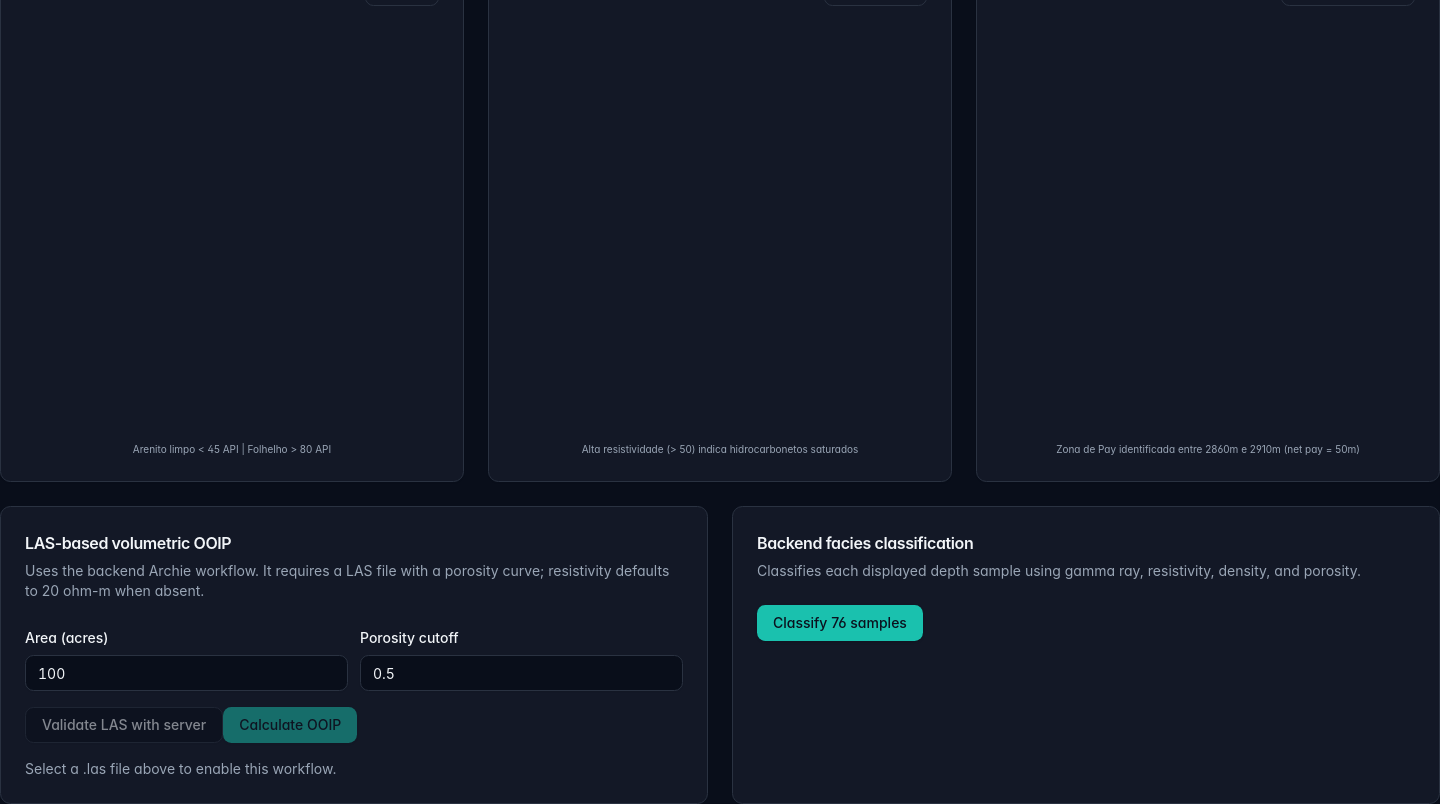
WellDataViewer backend workflows › sends displayed well-log samples to the backend facies classifier
The image size is (1440, 804).
(page scrolled)
Click the button "Classify 76 samples".
click(840, 623)  # box [757, 605, 923, 641]
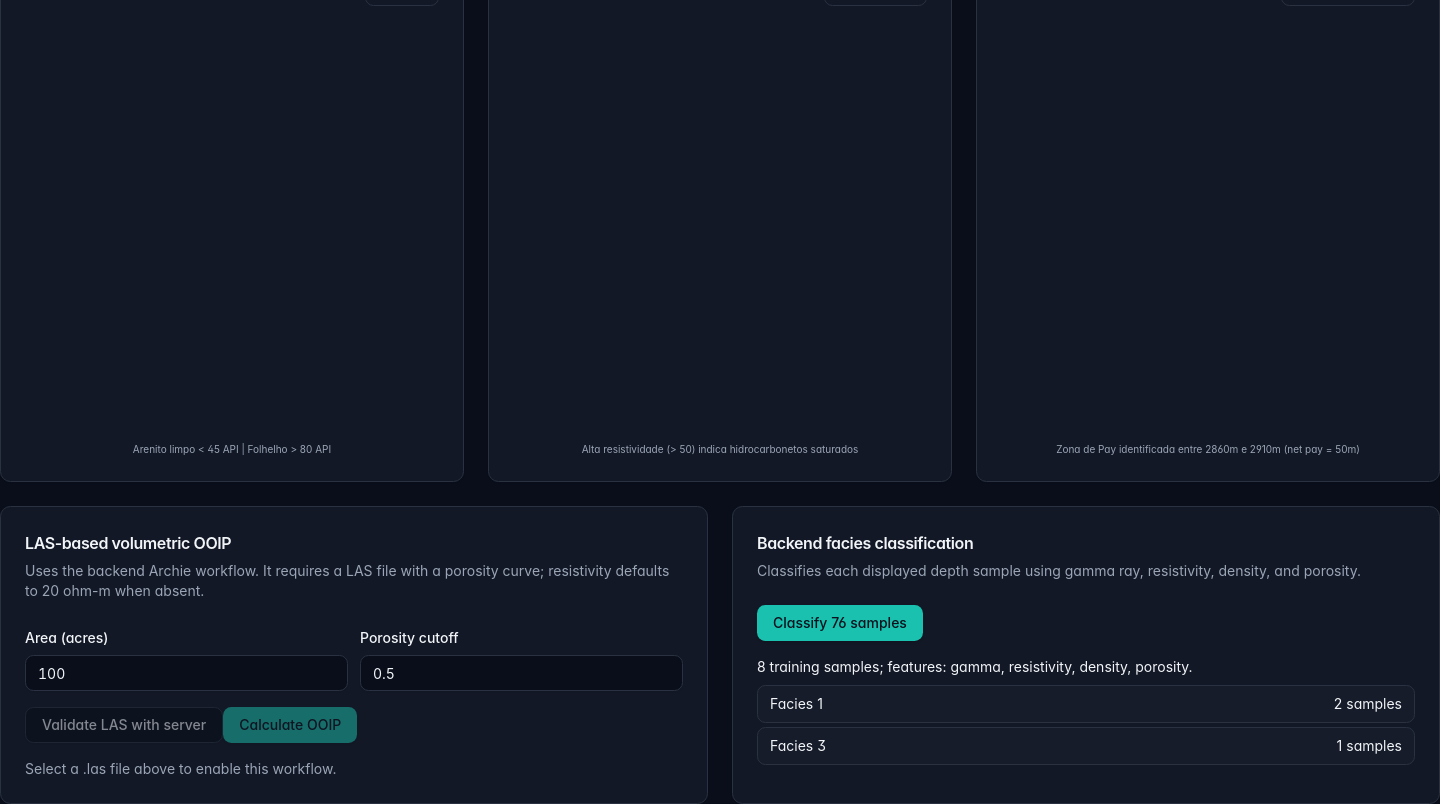
Now the text "Facies 1" is shown, box [770, 694, 823, 714]
